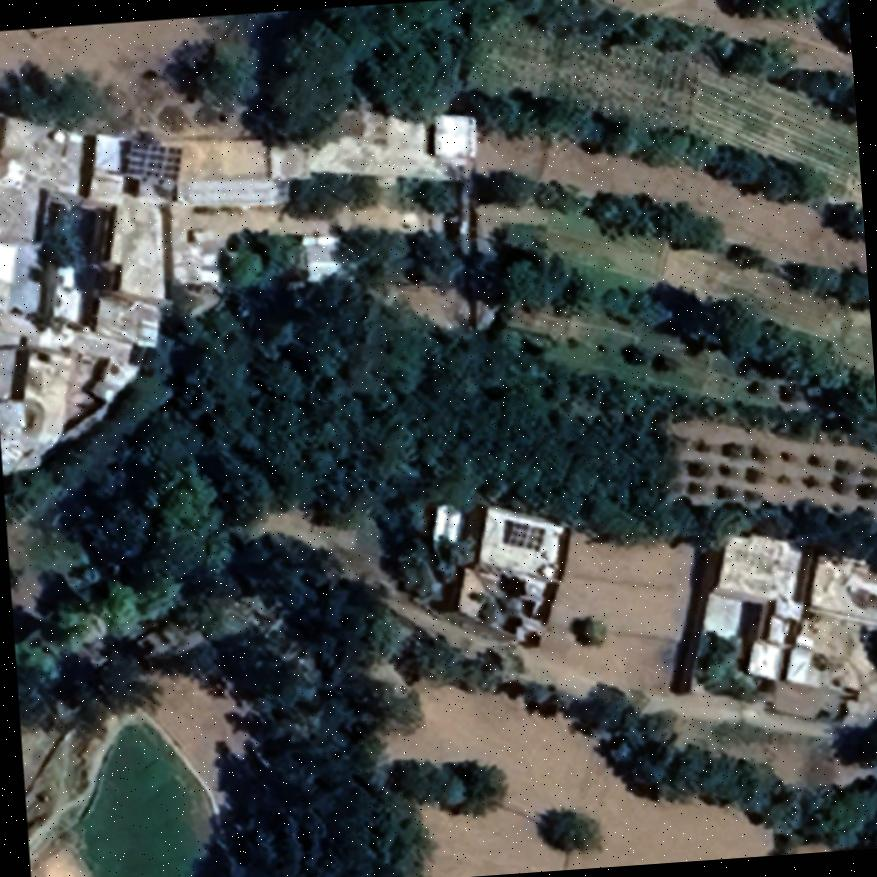Solarpanel: (125, 136, 183, 181), (500, 514, 546, 553)
